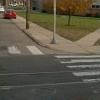Crosswalk: (51, 42, 100, 100)
